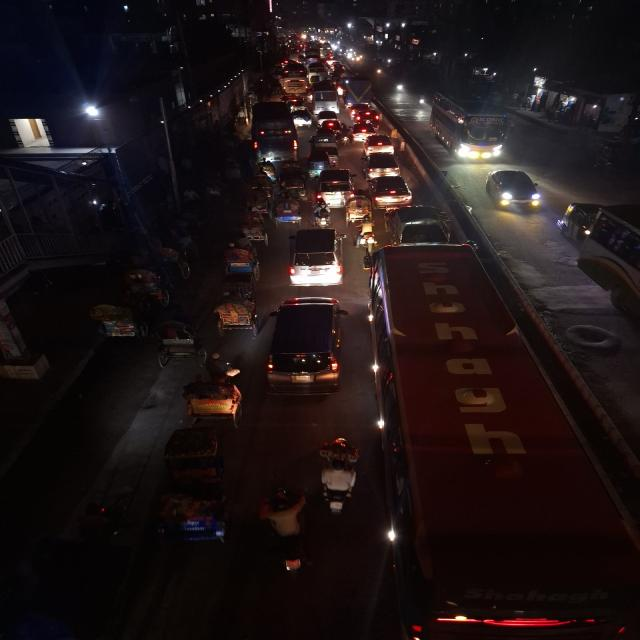bus: (369, 239, 639, 639), (564, 199, 640, 341), (425, 88, 514, 164), (249, 120, 295, 166)
car: (263, 294, 349, 394), (285, 226, 347, 288), (482, 166, 548, 216), (382, 204, 457, 243), (366, 174, 414, 206), (308, 80, 342, 113), (365, 150, 403, 177), (362, 132, 399, 156), (346, 100, 381, 124)
cng: (316, 167, 354, 207), (279, 166, 307, 201), (307, 150, 329, 179), (292, 106, 312, 128)
motorcycle: (313, 436, 367, 518), (353, 216, 378, 252), (311, 200, 333, 228)
rickshaw: (150, 423, 235, 552), (179, 368, 246, 422), (153, 320, 208, 368), (208, 293, 262, 337), (86, 303, 145, 343), (218, 238, 262, 276), (236, 209, 268, 242), (272, 194, 302, 227), (343, 197, 371, 226)
